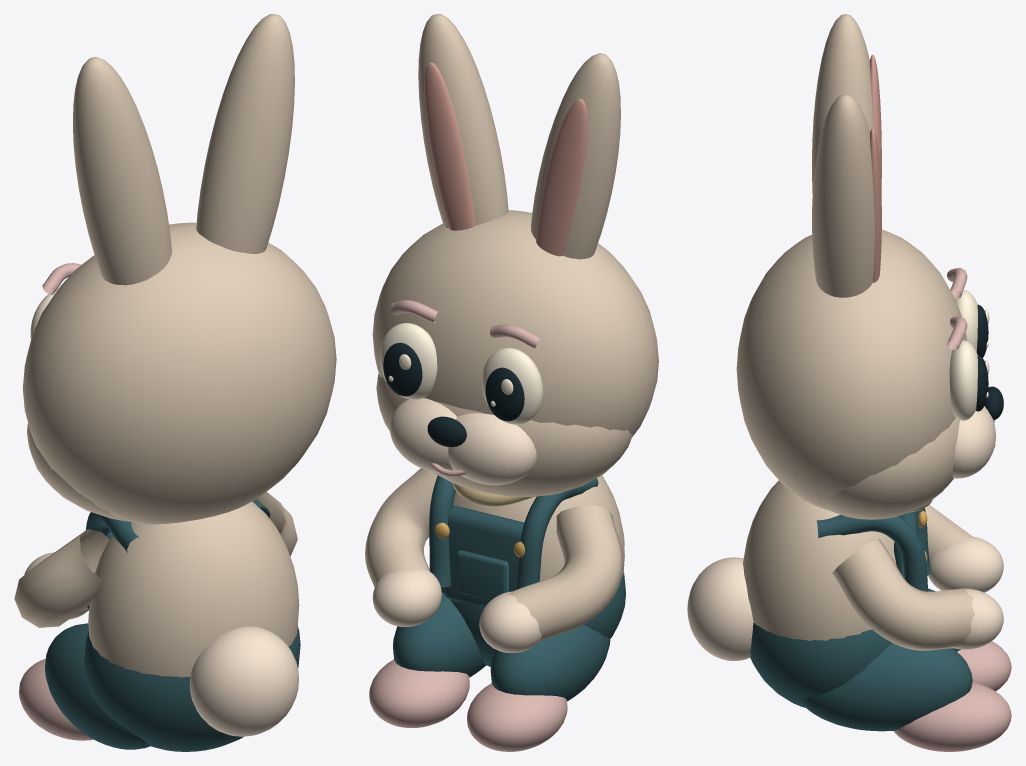
The model's file is lapin.glb.
3 renders of one model, left to right at view 1: azimuth 30°, elevation 25°; view 2: azimuth 150°, elevation 25°; view 3: azimuth 270°, elevation 25°, orthographic. The views are drawn at different scales.
Visible parts, largest first — view 1: Crâne, Buste, Salopette, Patte, Chaussure, Sourcil; view 2: Crâne, Salopette, Buste, Chaussure, Intérieur, Museau, Patte, Blanc, Blanc.001, Sourcil, Iris, Iris.001 (+2 smaller); view 3: Crâne, Buste, Salopette, Patte, Chaussure, Museau, Blanc.001, Intérieur, Sourcil, Blanc.
Part boxes in pixels (x1=…): Crâne: x1=22, y1=14, x2=336, y2=524; Buste: x1=14, y1=492, x2=299, y2=677; Salopette: x1=45, y1=499, x2=300, y2=751; Patte: x1=24, y1=552, x2=298, y2=736; Chaussure: x1=19, y1=658, x2=93, y2=740; Sourcil: x1=42, y1=263, x2=81, y2=294; Crâne: x1=372, y1=14, x2=658, y2=496; Salopette: x1=393, y1=475, x2=625, y2=701; Buste: x1=365, y1=468, x2=624, y2=641; Chaussure: x1=369, y1=659, x2=567, y2=751; Intérieur: x1=424, y1=62, x2=587, y2=256; Museau: x1=389, y1=398, x2=536, y2=485; Patte: x1=372, y1=531, x2=624, y2=652; Blanc: x1=482, y1=348, x2=542, y2=424; Blanc.001: x1=379, y1=323, x2=437, y2=399; Sourcil: x1=390, y1=300, x2=539, y2=476; Iris: x1=485, y1=367, x2=524, y2=421; Iris.001: x1=383, y1=342, x2=422, y2=396; Crâne: x1=736, y1=14, x2=966, y2=519; Buste: x1=743, y1=480, x2=974, y2=650; Salopette: x1=750, y1=507, x2=972, y2=731; Patte: x1=687, y1=536, x2=1003, y2=660; Chaussure: x1=893, y1=641, x2=1011, y2=751; Museau: x1=953, y1=386, x2=995, y2=478; Blanc.001: x1=949, y1=340, x2=989, y2=420; Intérieur: x1=869, y1=55, x2=881, y2=282; Sourcil: x1=947, y1=268, x2=995, y2=447; Blanc: x1=955, y1=290, x2=989, y2=351.
Bounding box in the file's own units: 1.18 × 2.84 × 1.25.
